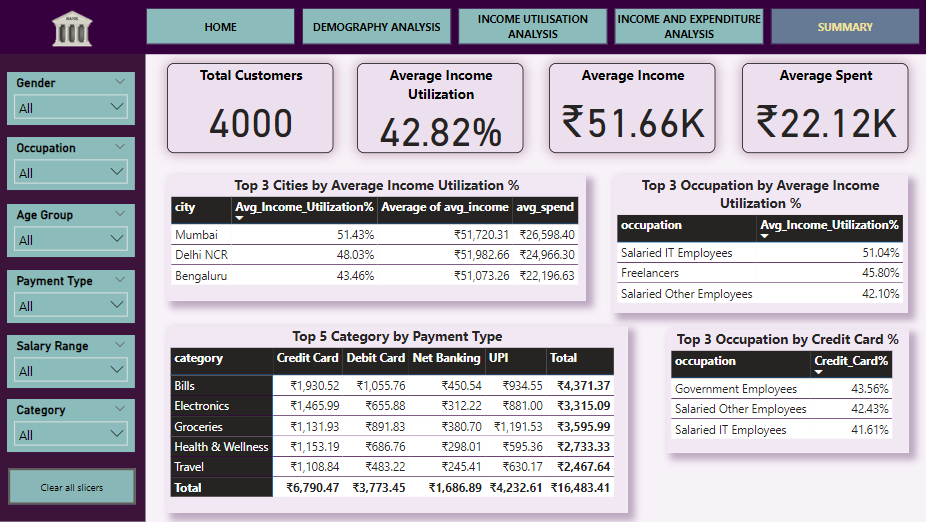

Layout of this report page (visuals, bound fields, positions):
{"tool":"powerbi","page":{"name":"SUMMARY","canvas":[1280,720],"ordinal":4},"visuals":[{"type":"shape","box":[0,0,1280.2,76.3],"z":0},{"type":"pageNavigator","box":[203,13,1065.6,50.4],"z":1000},{"type":"image","box":[56.2,7.2,90.7,69.1],"z":2000},{"type":"shape","box":[0,76.3,203,643.7],"z":3000},{"type":"slicer","fields":{"Values":["dim_customers.gender"]},"box":[13,100.8,175.7,73.4],"z":4000},{"type":"actionButton","box":[14.4,645.1,175.7,50.4],"z":5000},{"type":"slicer","fields":{"Values":["dim_customers.occupation"]},"box":[13,190.1,175.7,73.4],"z":6000},{"type":"slicer","fields":{"Values":["dim_customers.age_group"]},"box":[13,282.2,175.7,73.4],"z":7000},{"type":"card","title":"Average Income Utilization ","fields":{"Values":["ALL Measures.Avg_Income_Utilization%"]},"box":[493.9,87.8,229,123.8],"z":8000},{"type":"slicer","fields":{"Values":["fact_spends.payment_type"]},"box":[13,373,175.7,73.4],"z":9000},{"type":"card","title":"Average Income ","fields":{"Values":["Avg(dim_customers.avg_income)"]},"box":[758.9,87.8,229,123.8],"z":10000},{"type":"slicer","fields":{"Values":["dim_customers.Salary Range"]},"box":[13,462.2,175.7,73.4],"z":11000},{"type":"card","title":"Average Spent","fields":{"Values":["ALL Measures.avg_spend"]},"box":[1023.8,87.8,229,123.8],"z":12000},{"type":"slicer","fields":{"Values":["fact_spends.category"]},"box":[13,550.1,175.7,73.4],"z":13000},{"type":"card","title":"Total Customers","fields":{"Values":["Count(dim_customers.customer_id)"]},"box":[233.3,87.8,229,123.8],"z":14000},{"type":"tableEx","title":"Top 3 Cities by Average Income Utilization %","fields":{"Values":["dim_customers.city","ALL Measures.Avg_Income_Utilization%","dim_customers.avg_income","ALL Measures.avg_spend"]},"box":[233.3,241.9,577.4,172.8],"z":15000},{"type":"pivotTable","title":"Top 5 Category by Payment Type","fields":{"Rows":["fact_spends.category"],"Columns":["fact_spends.payment_type"],"Values":["ALL Measures.avg_spend"]},"box":[233.3,450.7,633.6,257.8],"z":16000},{"type":"tableEx","title":"Top 3 Occupation by Average Income Utilization %","fields":{"Values":["dim_customers.occupation","ALL Measures.Avg_Income_Utilization%"]},"box":[846.7,241.9,406.1,190.1],"z":17000},{"type":"tableEx","title":"Top 3 Occupation by Credit Card %","fields":{"Values":["dim_customers.occupation","ALL Measures.Credit_Card%"]},"box":[920.2,453.6,332.6,169.9],"z":18000}]}

Visuals, with their boxes in screenshot pixels (x1, y1, x2, y2), scaled from the page's 1280x720 canvas onto the 926x522 screenshot:
shape: 0/0/925/55
pageNavigator: 147/9/918/46
image: 41/5/106/55
shape: 0/55/147/521
slicer - dim_customers.gender: 9/73/137/126
actionButton: 10/468/138/504
slicer - dim_customers.occupation: 9/138/137/191
slicer - dim_customers.age_group: 9/205/137/258
"Average Income Utilization " card: 357/64/523/153
slicer - fact_spends.payment_type: 9/270/137/324
"Average Income " card: 549/64/715/153
slicer - dim_customers.Salary Range: 9/335/137/388
"Average Spent" card: 741/64/906/153
slicer - fact_spends.category: 9/399/137/452
"Total Customers" card: 169/64/334/153
"Top 3 Cities by Average Income Utilization %" tableEx: 169/175/586/301
"Top 5 Category by Payment Type" pivotTable: 169/327/627/514
"Top 3 Occupation by Average Income Utilization %" tableEx: 613/175/906/313
"Top 3 Occupation by Credit Card %" tableEx: 666/329/906/452
